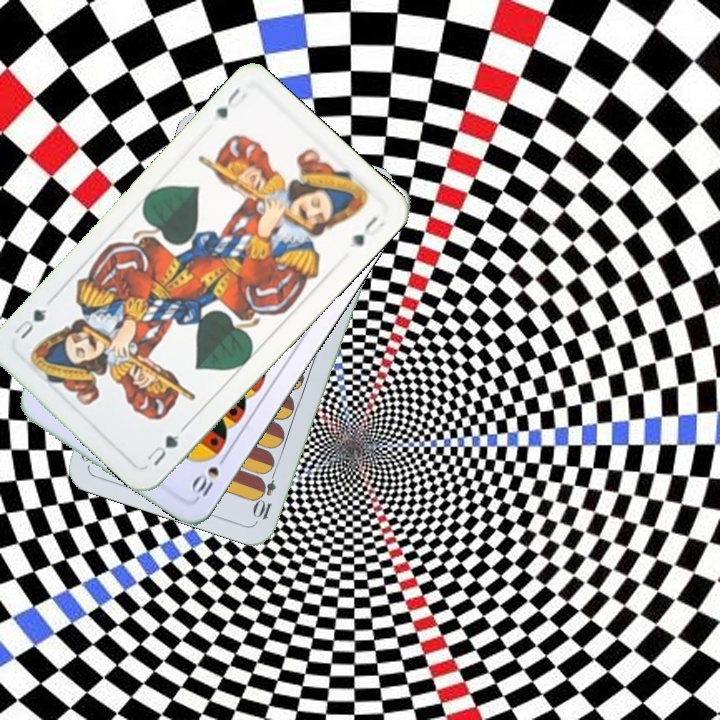E10: (251, 463, 280, 522)
GU: (142, 430, 182, 469), (212, 83, 249, 121)
S10: (187, 449, 231, 501)
